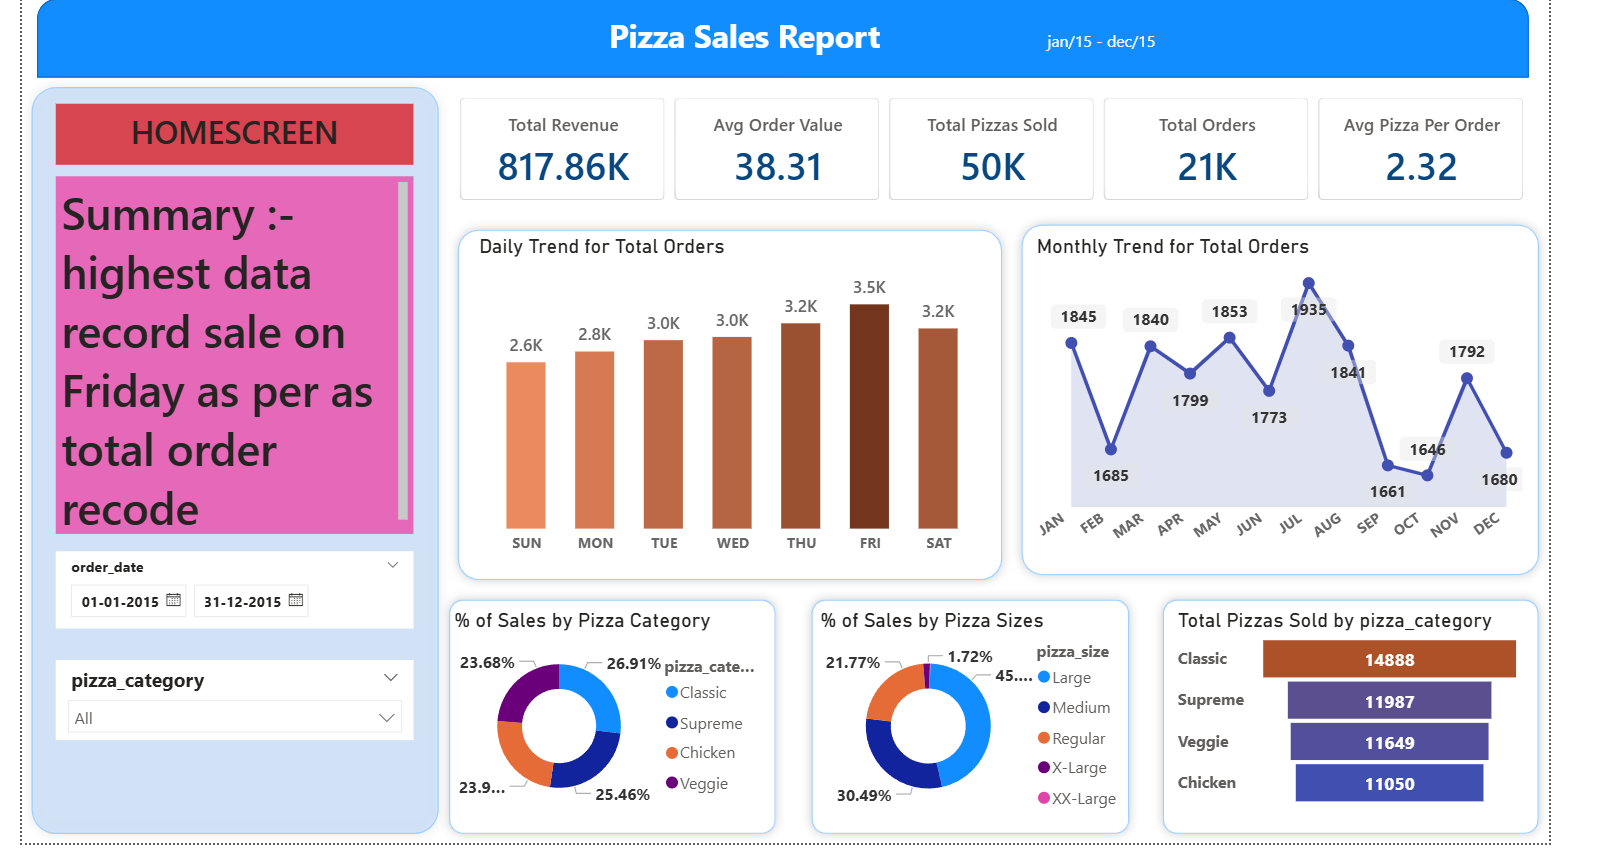

This screenshot's page, from the dashboard's own definition file:
{"tool":"powerbi","page":{"name":"Page 1","canvas":[1280,720],"ordinal":0},"visuals":[{"type":"cardVisual","fields":{"Data":["pizza_sales.Total Revenue","pizza_sales.Avg Order Value","pizza_sales.Total Pizzas Sold","pizza_sales.Total Orders","pizza_sales.Avg Pizza Per Order"]},"box":[350,77.1,930,120],"z":1000},{"type":"shape","box":[12.5,11.2,1251.2,66.2],"z":2000},{"type":"textbox","box":[444.3,18.6,322.9,50],"z":3000},{"type":"textbox","box":[845.7,32.9,118.6,35.7],"z":4000},{"type":"shape","box":[357.5,197.5,472.5,310],"z":5000},{"type":"columnChart","title":"Daily Trend for Total Orders","fields":{"Category":["pizza_sales.Order Day"],"Y":["pizza_sales.Total Orders"]},"box":[378.8,208.8,436.2,277.5],"z":6000},{"type":"shape","box":[830,192.5,450,310],"z":7000},{"type":"areaChart","title":"Monthly Trend for Total Orders","fields":{"Category":["pizza_sales.Order Month"],"Y":["pizza_sales.Total Orders"]},"box":[846.2,208.8,417.5,277.5],"z":8000},{"type":"shape","box":[350,507.5,290,212.5],"z":9000},{"type":"shape","box":[653.8,507.5,282.5,212.5],"z":10000},{"type":"shape","box":[948.8,507.5,331.2,212.5],"z":12000},{"type":"donutChart","title":"% of Sales by Pizza Category","fields":{"Category":["pizza_sales.pizza_category"],"Y":["pizza_sales.Total Revenue"]},"box":[357.5,522.5,271.2,180],"z":13000},{"type":"donutChart","title":"% of Sales by Pizza Sizes","fields":{"Y":["pizza_sales.Total Revenue"],"Category":["pizza_sales.pizza_size"]},"box":[665,522.5,271.2,180],"z":14000},{"type":"funnel","fields":{"Category":["pizza_sales.pizza_category"],"Y":["pizza_sales.Total Pizzas Sold"]},"box":[965,522.5,298.8,171.2],"z":15000},{"type":"shape","box":[0,77.5,357.5,642.5],"z":15001},{"type":"slicer","fields":{"Values":["pizza_sales.pizza_category"]},"box":[28.8,566.2,300,67.5],"z":15002},{"type":"slicer","fields":{"Values":["pizza_sales.order_date"]},"box":[28.8,475,300,65],"z":15003},{"type":"textbox","box":[28.8,100,300,51.2],"z":15004},{"type":"textbox","box":[28.8,160,300,300],"z":15005}]}

Visuals, with their boxes on the page's 1280x720 design canvas (x1, y1, x2, y2). These are canvas units, not pixel positions in the 1611x852 screenshot, which may show the page scaled, cropped or inside an application window:
cardVisual - pizza_sales.Total Revenue x pizza_sales.Avg Order Value: bbox(350, 77, 1280, 197)
shape: bbox(12, 11, 1264, 77)
textbox: bbox(444, 19, 767, 69)
textbox: bbox(846, 33, 964, 69)
shape: bbox(358, 198, 830, 508)
"Daily Trend for Total Orders" columnChart: bbox(379, 209, 815, 486)
shape: bbox(830, 192, 1280, 502)
"Monthly Trend for Total Orders" areaChart: bbox(846, 209, 1264, 486)
shape: bbox(350, 508, 640, 720)
shape: bbox(654, 508, 936, 720)
shape: bbox(949, 508, 1280, 720)
"% of Sales by Pizza Category" donutChart: bbox(358, 522, 629, 702)
"% of Sales by Pizza Sizes" donutChart: bbox(665, 522, 936, 702)
funnel - pizza_sales.pizza_category x pizza_sales.Total Pizzas Sold: bbox(965, 522, 1264, 694)
shape: bbox(0, 78, 358, 720)
slicer - pizza_sales.pizza_category: bbox(29, 566, 329, 634)
slicer - pizza_sales.order_date: bbox(29, 475, 329, 540)
textbox: bbox(29, 100, 329, 151)
textbox: bbox(29, 160, 329, 460)
